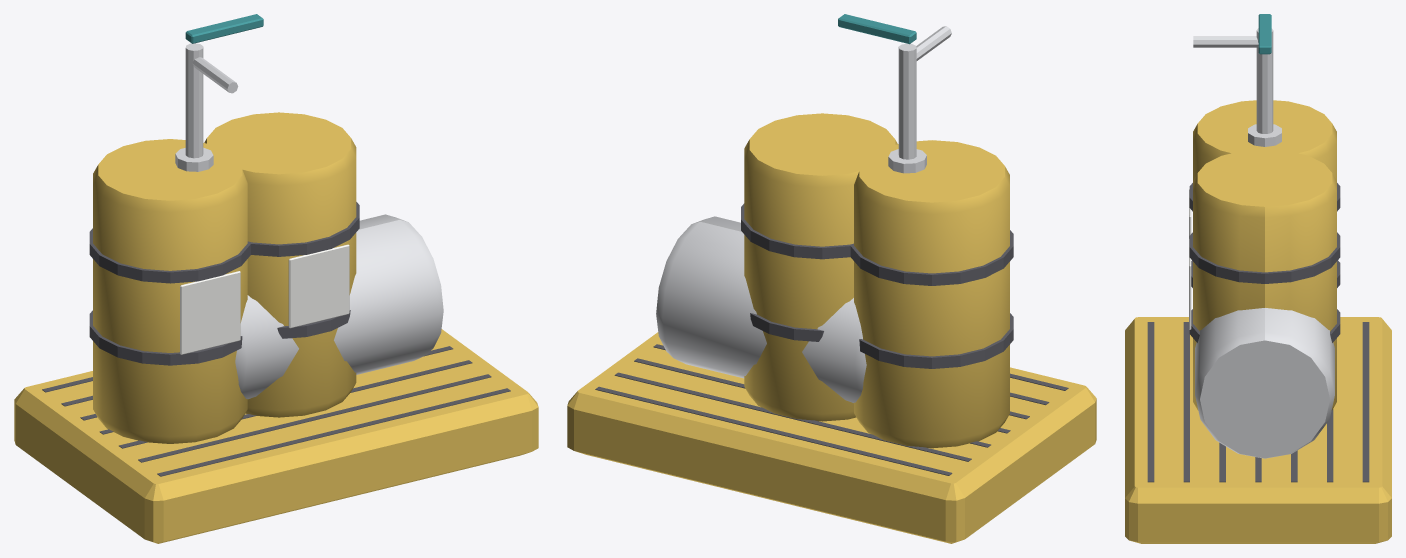
The model's file is dry-cleaners-and-alterations-shop-solvent-drum-bay-f5d1a80b__34955.glb.
The picture shows the model from 3 angles, left to right: view 1: azimuth 30°, elevation 25°; view 2: azimuth 150°, elevation 25°; view 3: azimuth 270°, elevation 25°; orthographic projection. The views are drawn at different scales.
Visible parts, largest first — view 1: solvent-drum-bay; view 2: solvent-drum-bay; view 3: solvent-drum-bay.
Part boxes in pixels (<box>): solvent-drum-bay: <box>14,14,538,543</box>; solvent-drum-bay: <box>567,14,1096,543</box>; solvent-drum-bay: <box>1125,14,1391,543</box>.
Bounding box in the file's own units: 1.3 × 1.39 × 0.8201.
